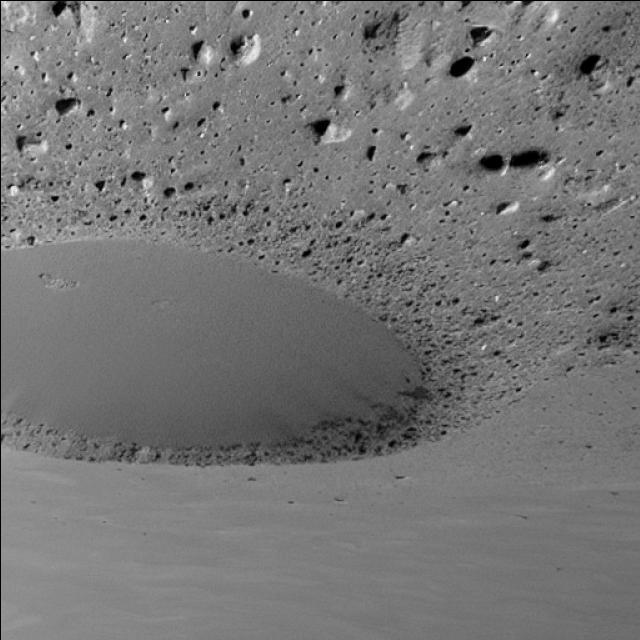crater: (0, 236, 430, 469)
